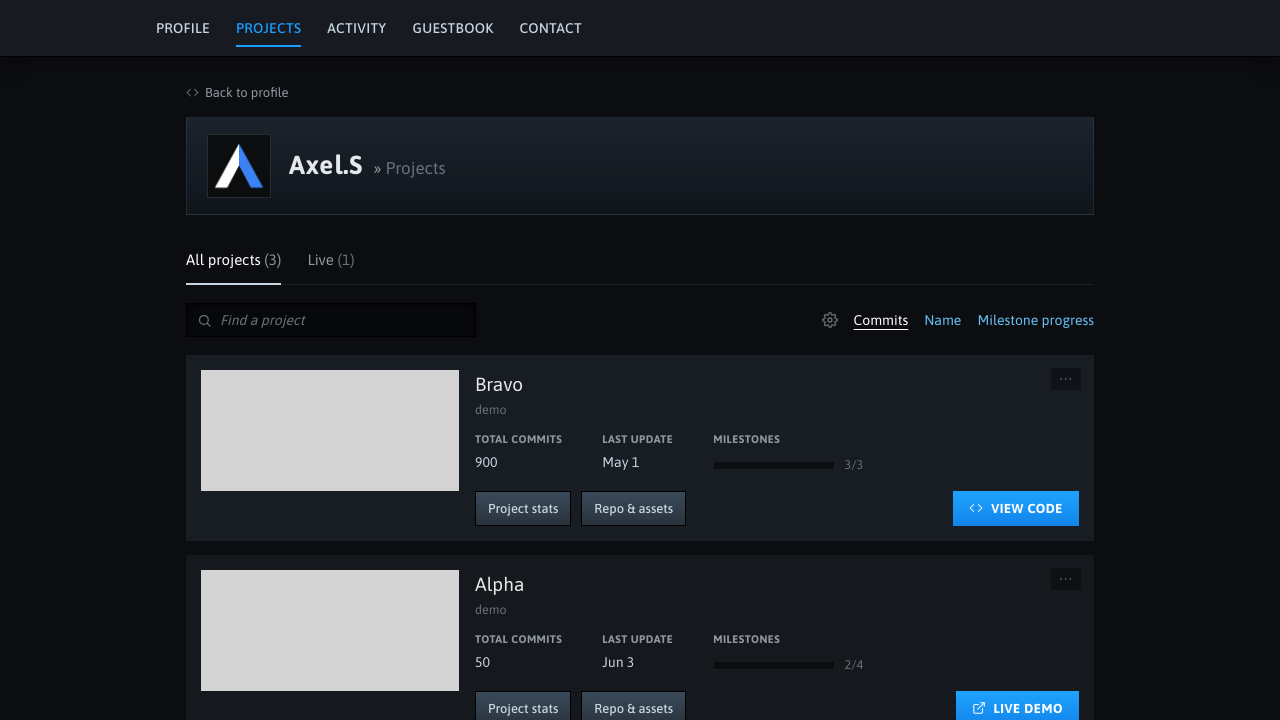
ProjectsLibrary › filters by search query
Type "brav" into the field with placeholder "Find a project".
click(342, 320); type("brav")  # box x1=220 y1=310 x2=465 y2=330
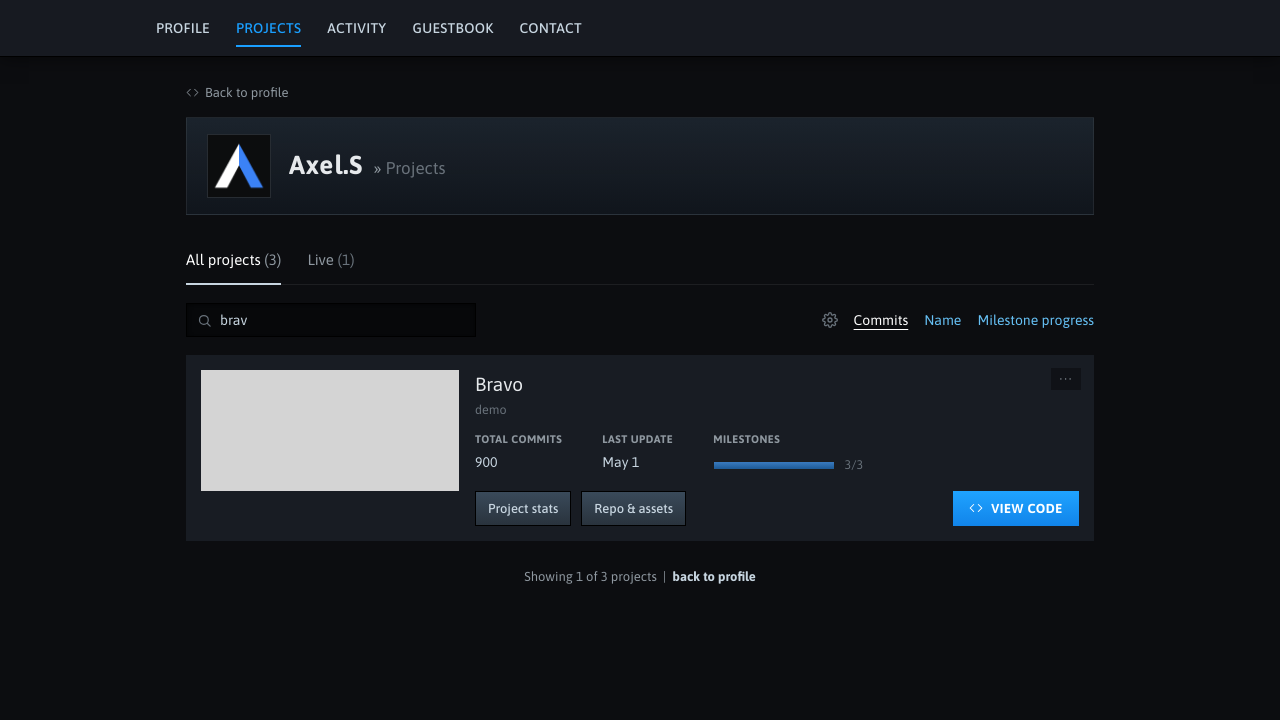
Expected: the link "Bravo" is shown, x1=475 y1=373 x2=523 y2=395
Now the link "Alpha" is gone
